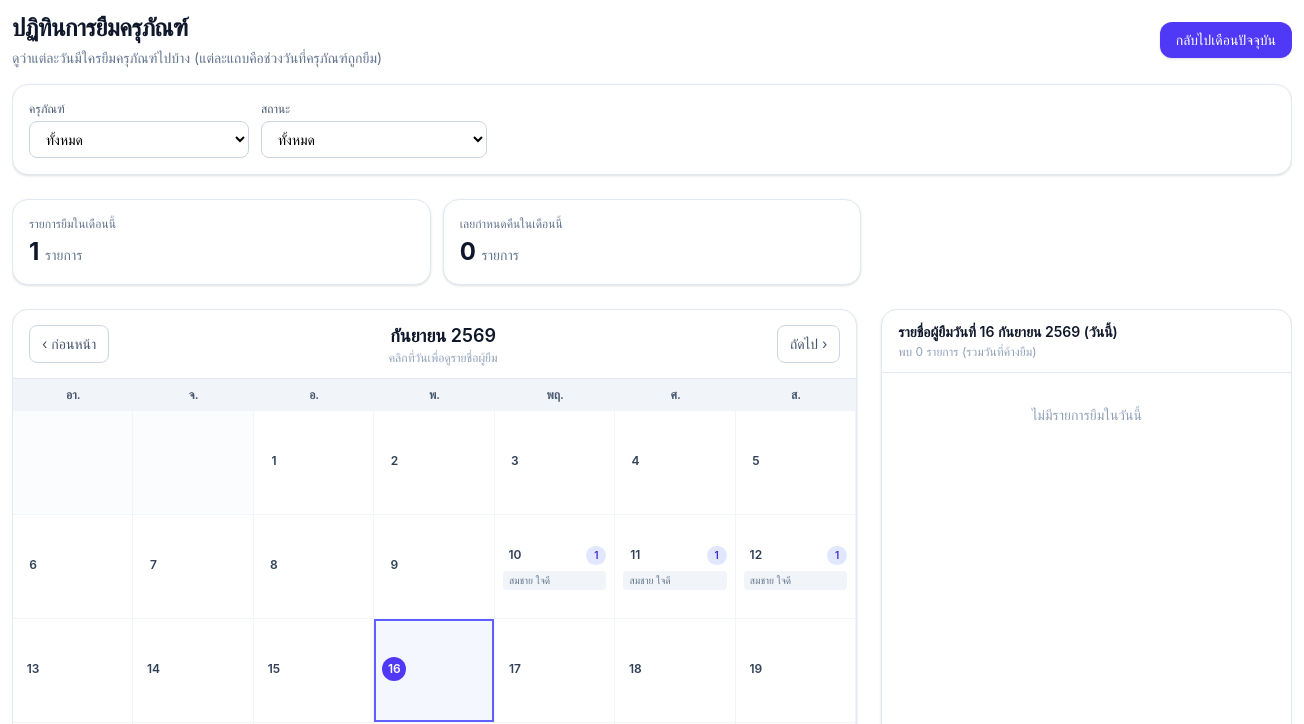
BorrowCalendarView.vue › ไม่แสดงปุ่มคืนอุปกรณ์สำหรับรายการที่คืนแล้ว
The image size is (1304, 724).
Click the button "11 1 สมชาย ใจดี": (676, 567) [615,515,736,619]
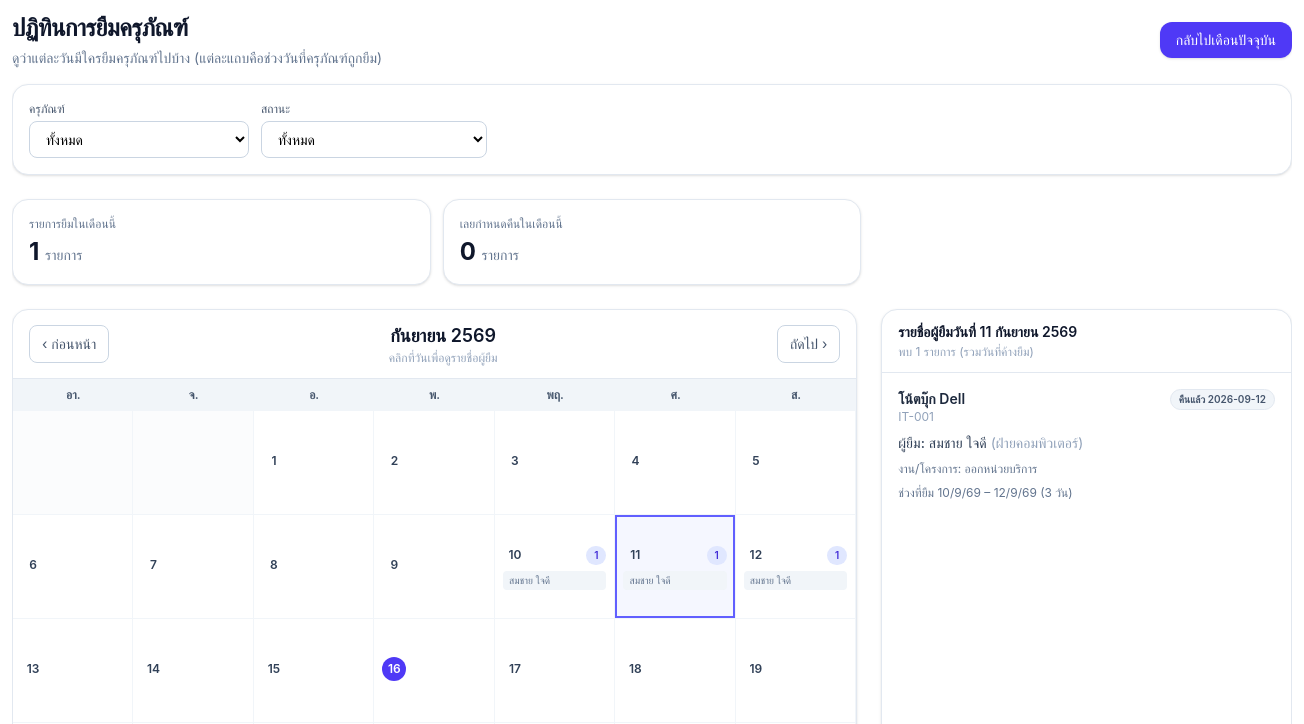
Result: the text "คืนแล้ว 2026-09-12" is shown at [1170,389,1275,410]
